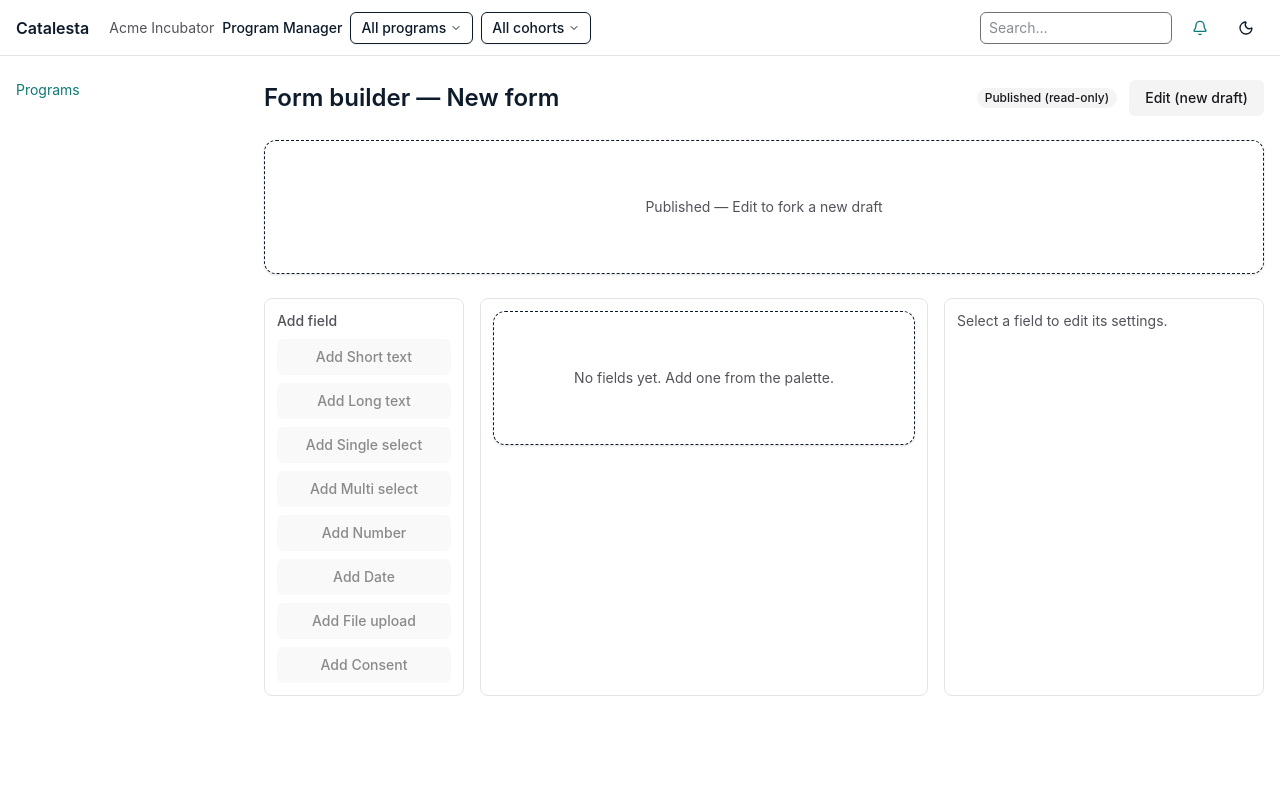
after Publish then fork, builder is editable again (justPublished cleared)
This screenshot has width=1280, height=800.
Expected: the heading "Form builder — New form" is shown, x1=264 y1=82 x2=559 y2=114
Expected: the button "Add Short text" is disabled, x1=277 y1=339 x2=451 y2=375
# Click "Edit (new draft)" to fork
Click the button "Edit (new draft)": (1197, 98) x1=1129 y1=80 x2=1264 y2=116
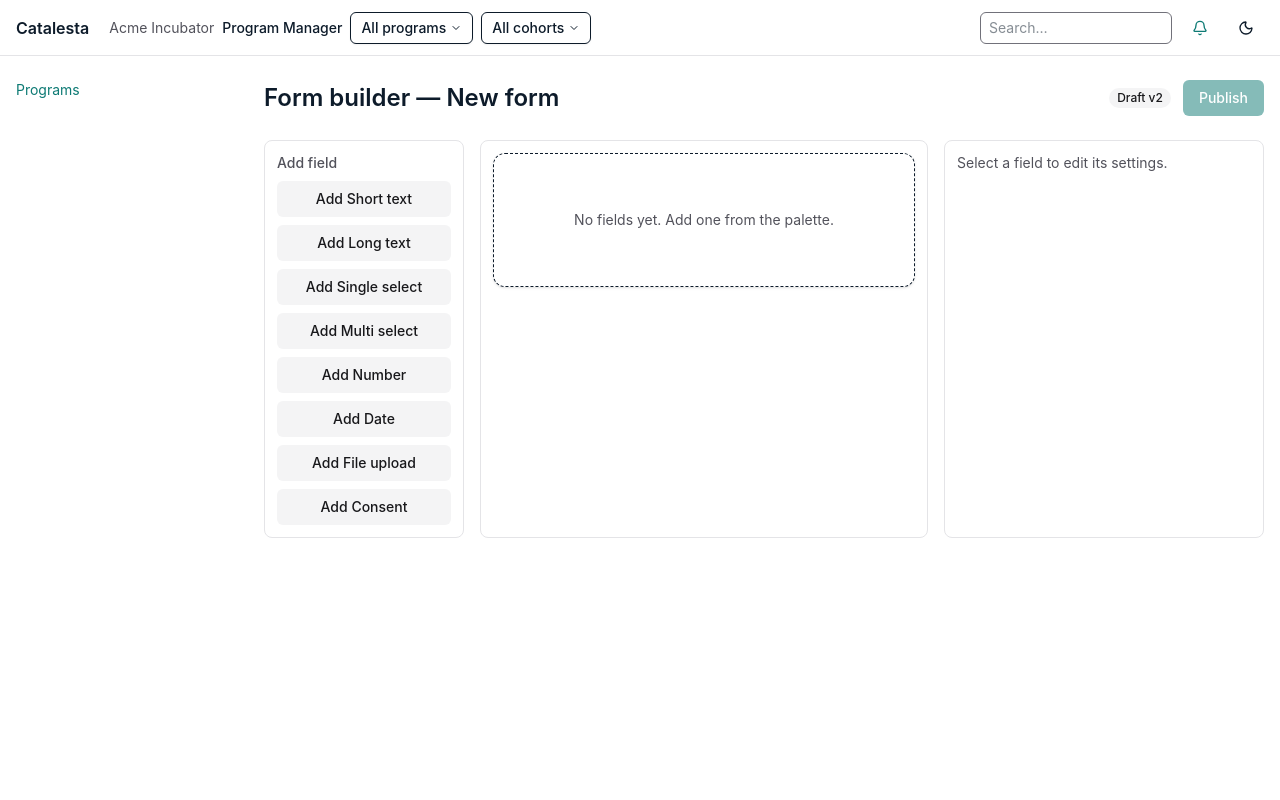
Expected: the button "Add Short text" is enabled, x1=277 y1=181 x2=451 y2=217
